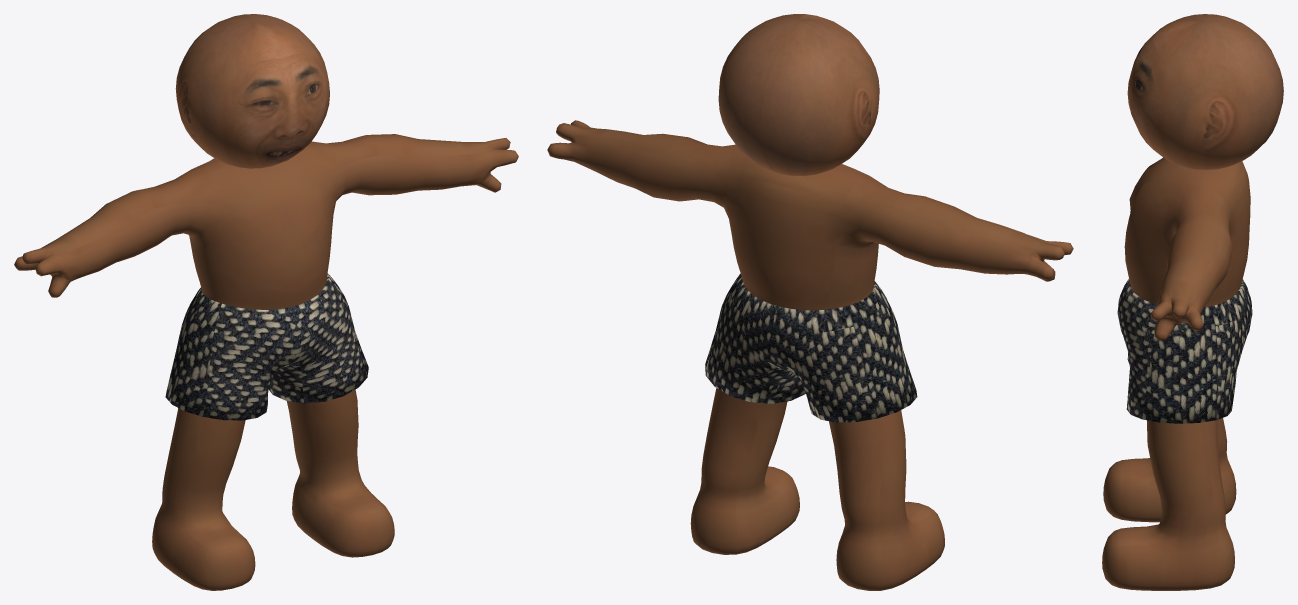
The model's file is 8 npc.fbx.
3 renders of one model, left to right at view 1: azimuth 30°, elevation 25°; view 2: azimuth 150°, elevation 25°; view 3: azimuth 270°, elevation 25°, orthographic. The views are drawn at different scales.
Parts seen in each view (by area): view 1: polySurface5; view 2: polySurface5; view 3: polySurface5.
Boxes of the visible parts, left/top/right/bottom form: polySurface5: left=14, top=14, right=518, bottom=590; polySurface5: left=547, top=14, right=1073, bottom=590; polySurface5: left=1102, top=14, right=1283, bottom=590.
Bounding box in the file's own units: 7.24 × 7.41 × 2.33.
3 materials, 3 textured.
